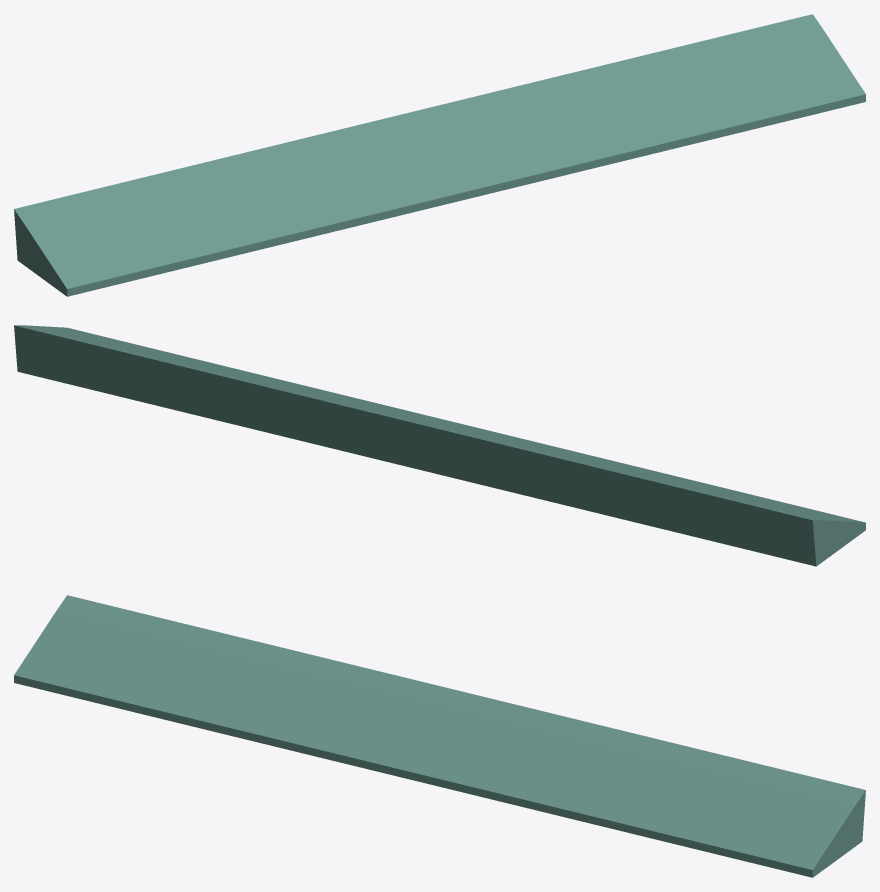
File: kaze_gt_ducktail.glb
3 views of the same model, one above another, from view 1: azimuth 30°, elevation 25°; view 2: azimuth 150°, elevation 25°; view 3: azimuth 330°, elevation 25° (orthographic).
Visible parts, largest first — view 1: wing_element; view 2: wing_element; view 3: wing_element.
Part boxes in pixels (<box>): wing_element: <box>14,14,865,296</box>; wing_element: <box>14,325,865,566</box>; wing_element: <box>14,595,865,877</box>.
Bounding box in the file's own units: 1.3 × 0.076 × 0.15.
